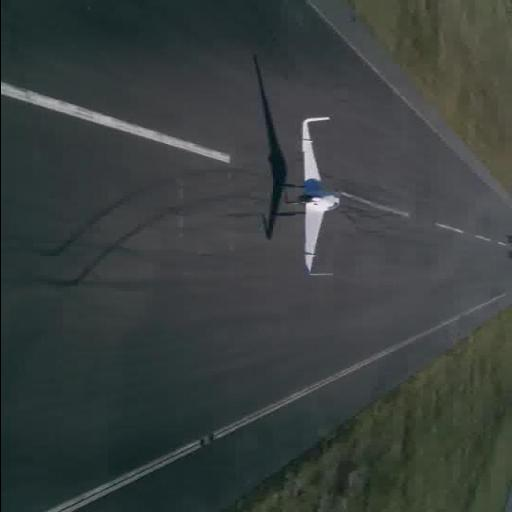uav: (251, 114, 353, 280)
